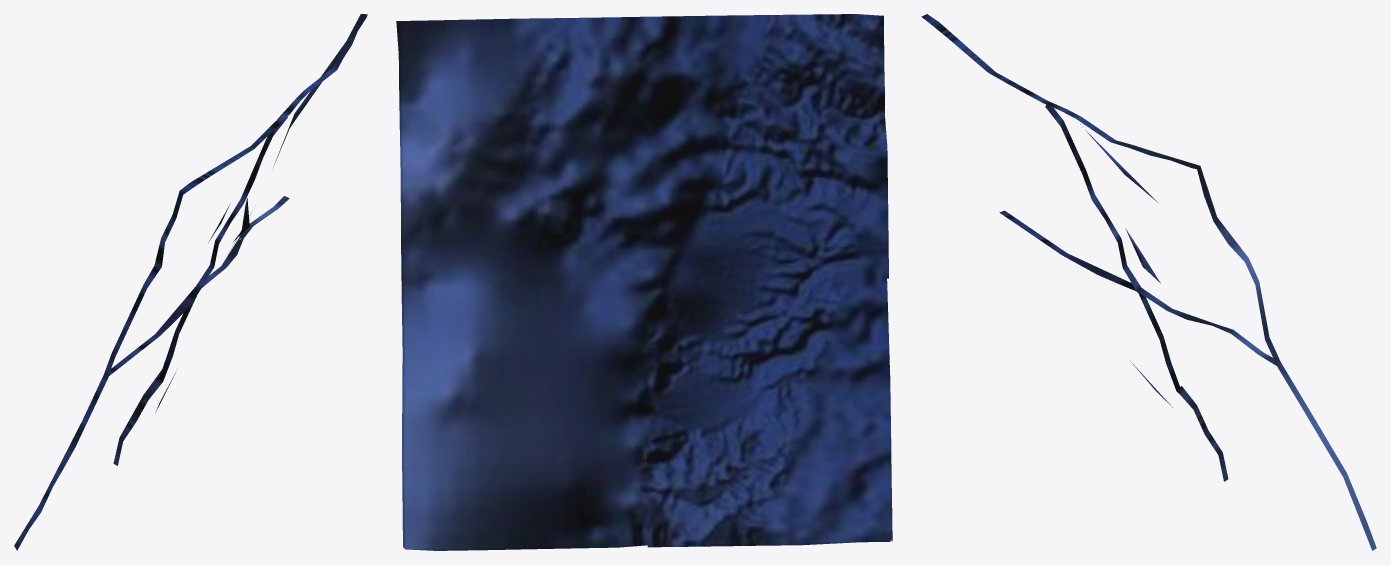
3 views of the same model, side by side, from view 1: azimuth 30°, elevation 25°; view 2: azimuth 150°, elevation 25°; view 3: azimuth 270°, elevation 25° (orthographic). The views are drawn at different scales.
Size of the model in its own units: 38191 by 37179 by 34663.
Materials: 1 (1 with a texture image).
